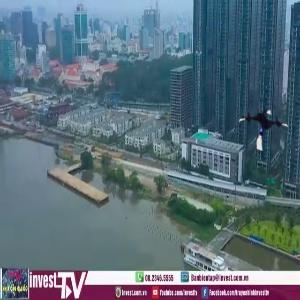drone: (238, 103, 293, 158)
